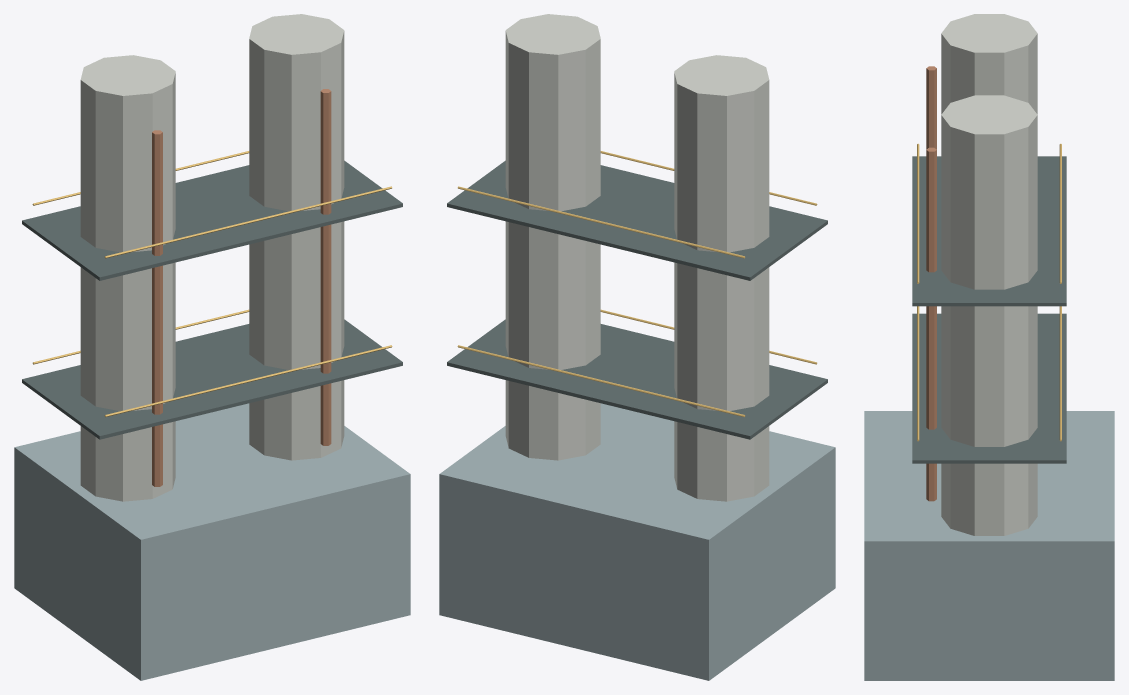
3 views of the same model, side by side, from view 1: azimuth 30°, elevation 25°; view 2: azimuth 150°, elevation 25°; view 3: azimuth 270°, elevation 25° (orthographic).
Bounding box in the file's own units: 18 × 31 × 13.
